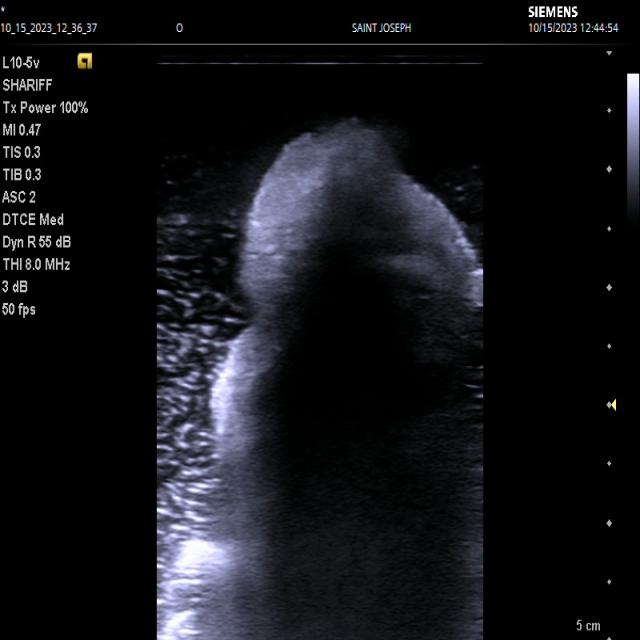tissue: (165, 119, 485, 640)
